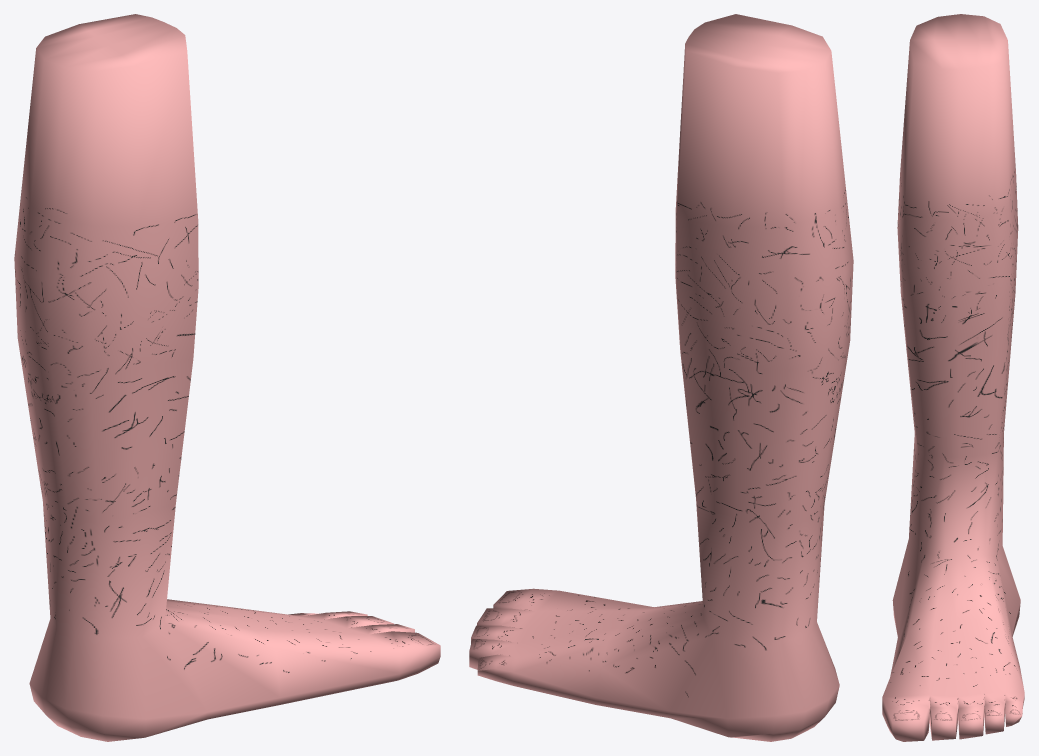
The model's file is Ayak_v3.fbx.
3 views of the same model, side by side, from view 1: azimuth 30°, elevation 25°; view 2: azimuth 150°, elevation 25°; view 3: azimuth 270°, elevation 25° (orthographic). The views are drawn at different scales.
Visible parts, largest first — view 1: Cube; view 2: Cube; view 3: Cube.
Part boxes in pixels (<box>): Cube: <box>14,14,440,741</box>; Cube: <box>469,14,853,741</box>; Cube: <box>882,14,1024,741</box>.
Size of the model in its own units: 212 by 360 by 80.05.
Materials: 1 (1 with a texture image).
